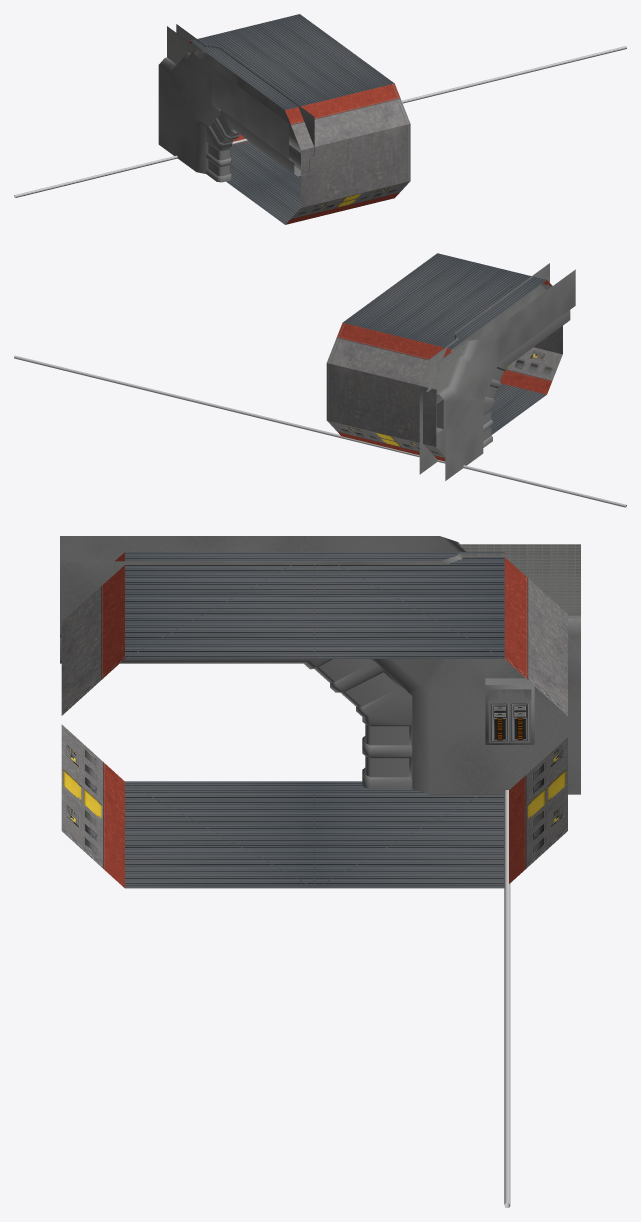
The model's file is all2.FBX.
The picture shows the model from 3 angles, top to bottom: view 1: azimuth 30°, elevation 25°; view 2: azimuth 150°, elevation 25°; view 3: azimuth 270°, elevation 25°; orthographic projection. The views are drawn at different scales.
Parts seen in each view (by area): view 1: Object019, Box001, Basic Module001; view 2: Object019, Box001, Basic Module001; view 3: Object019, Box001, Basic Module001.
Boxes of the visible parts, box(x1,y1,x2,y2) form: Object019: box(189, 14, 410, 224); Box001: box(158, 24, 314, 182); Basic Module001: box(14, 46, 626, 197); Object019: box(326, 253, 562, 461); Box001: box(419, 263, 575, 480); Basic Module001: box(14, 355, 626, 507); Object019: box(61, 552, 567, 888); Box001: box(60, 536, 580, 794); Basic Module001: box(504, 790, 510, 1207).
Bounding box in the file's own units: 2231 × 407 × 823.
